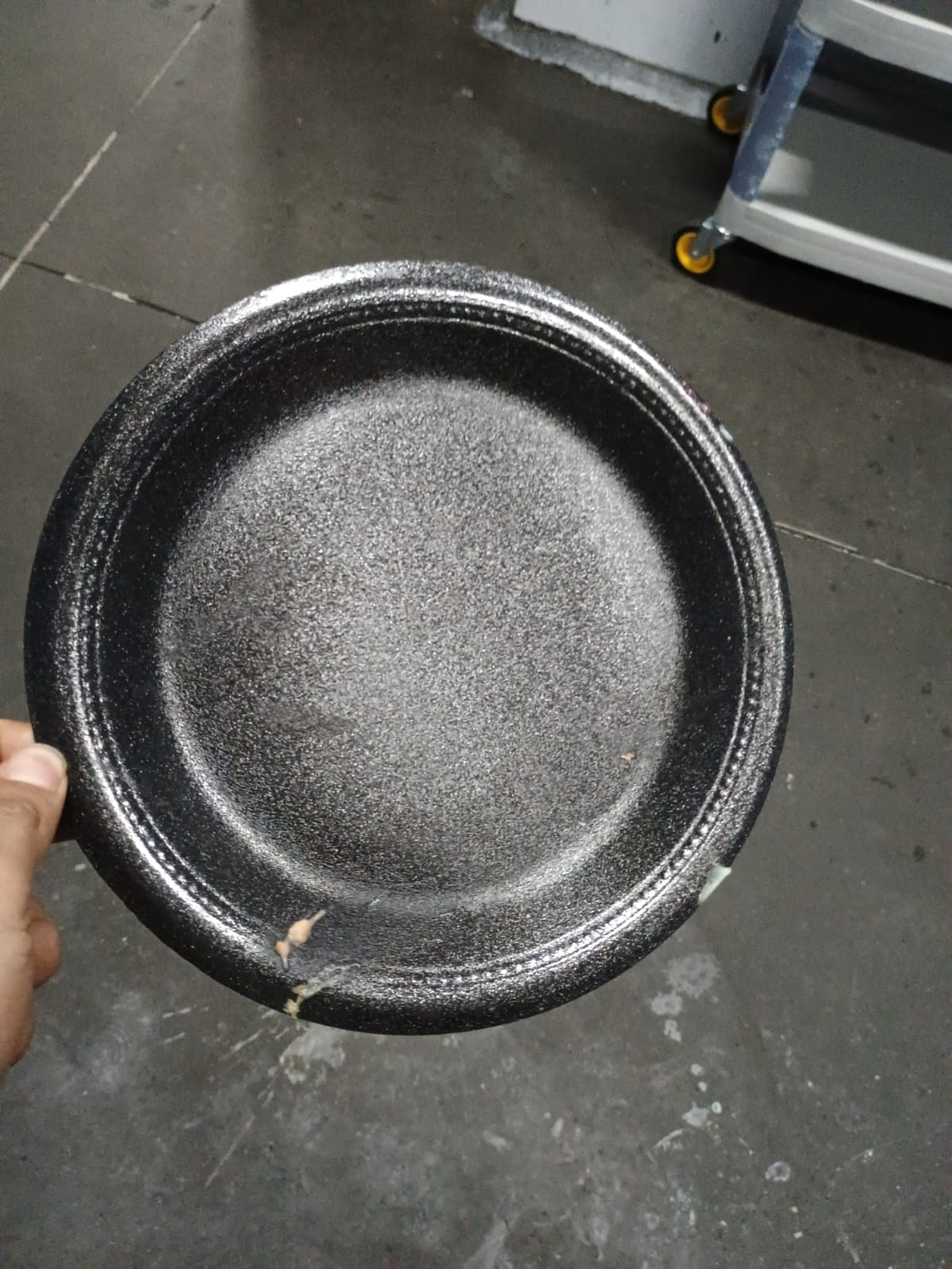Ordinario: (23, 260, 790, 1037)
